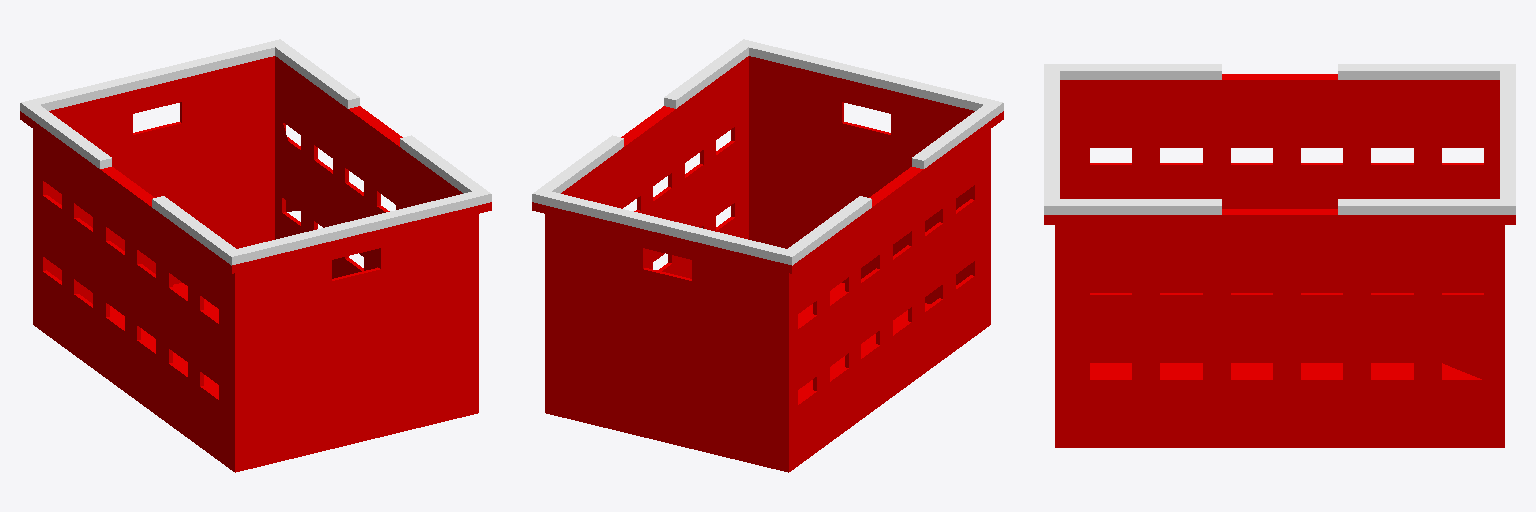
The robot description file, URDF, robot "basket-robot":
<?xml version="1.0"?>
<robot name="basket-robot"
       xmlns:xi="http://www.w3.org/2001/XInclude"
       xmlns:gazebo="http://playerstage.sourceforge.net/gazebo/xmlschema/#gz"
       xmlns:model="http://playerstage.sourceforge.net/gazebo/xmlschema/#model"
       xmlns:sensor="http://playerstage.sourceforge.net/gazebo/xmlschema/#sensor"
       xmlns:body="http://playerstage.sourceforge.net/gazebo/xmlschema/#body"
       xmlns:geom="http://playerstage.sourceforge.net/gazebo/xmlschema/#geom"
       xmlns:joint="http://playerstage.sourceforge.net/gazebo/xmlschema/#joint"
       xmlns:interface="http://playerstage.sourceforge.net/gazebo/xmlschema/#interface"
       xmlns:rendering="http://playerstage.sourceforge.net/gazebo/xmlschema/#rendering"
       xmlns:renderable="http://playerstage.sourceforge.net/gazebo/xmlschema/#renderable"
       xmlns:controller="http://playerstage.sourceforge.net/gazebo/xmlschema/#controller"
       xmlns:physics="http://playerstage.sourceforge.net/gazebo/xmlschema/#physics">
  <gazebo>
    <static>false</static>
  </gazebo>
  <link name="BOX_link">
    <visual>
      <origin xyz="0 0 0" rpy="0 -0 0"/>
      <geometry>
        <mesh filename="model://basket/meshes/BOX_link_mesh.dae" scale="1 1 1" />
      </geometry>
    </visual>
    <collision>
      <origin xyz="0 0 0" rpy="0 -0 0"/>
      <geometry>
        <mesh filename="model://basket/meshes/BOX_link_mesh.dae" scale="1 1 1" />
      </geometry>
    </collision>
    <inertial>
      <mass value="2" />
      <origin xyz="0 0 0" rpy="0 -0 0"/>
      <inertia ixx="1e-02" ixy="0" ixz="0" iyy="1e-02" iyz="0" izz="1e-02"/>
    </inertial>
  </link>
  <gazebo reference="BOX_link">
    <mu1>0.9</mu1>
    <mu2>0.9</mu2>
  </gazebo>
  <link name="RIGHT_link">
    <visual>
      <origin xyz="0 0.055 0.255" rpy="0 -0 0"/>
      <geometry>
        <mesh filename="model://basket/meshes/RIGHT_link_mesh.dae" scale="1 1 1" />
      </geometry>
    </visual>
    <collision>
      <origin xyz="0 0.055 0.255" rpy="0 -0 0"/>
      <geometry>
        <mesh filename="model://basket/meshes/RIGHT_link_mesh.dae" scale="1 1 1" />
      </geometry>
    </collision>
    <inertial>
      <mass value="0.1" />
      <origin xyz="0 0 0" rpy="0 -0 0"/>
      <inertia ixx="1e-03" ixy="0" ixz="0" iyy="1e-03" iyz="0" izz="1e-03"/>
    </inertial>
  </link>
  <gazebo reference="RIGHT_link">
    <mu1>0.9</mu1>
    <mu2>0.9</mu2>
  </gazebo>
  <link name="LEFT_link">
    <visual>
      <origin xyz="0 -0.055 0.255" rpy="0 -0 0"/>
      <geometry>
        <mesh filename="model://basket/meshes/LEFT_link_mesh.dae" scale="1 1 1" />
      </geometry>
    </visual>
    <collision>
      <origin xyz="0 -0.055 0.255" rpy="0 -0 0"/>
      <geometry>
        <mesh filename="model://basket/meshes/LEFT_link_mesh.dae" scale="1 1 1" />
      </geometry>
    </collision>
    <inertial>
      <mass value="0.1" />
      <origin xyz="0 0 0" rpy="0 -0 0"/>
      <inertia ixx="1e-03" ixy="0" ixz="0" iyy="1e-03" iyz="0" izz="1e-03"/>
    </inertial>
  </link>
  <gazebo reference="LEFT_link">
    <mu1>0.9</mu1>
    <mu2>0.9</mu2>
  </gazebo>
  <joint name="HANDLE-HINGE1" type="revolute">
    <parent link="BOX_link"/>
    <child  link="RIGHT_link"/>
    <origin xyz="0 0.055 0.255" rpy="0 -0 0 "/>
    <axis   xyz="1 0 0"/>
    <limit lower="0" upper="3.14159" effort="100" velocity="0.5" />
    <dynamics damping="0.2" friction="0" />
  </joint>
  <transmission type="pr2_mechanism_model/SimpleTransmission" name="HANDLE-HINGE1_trans" >
    <actuator name="HANDLE-HINGE1_motor" />
    <joint name="HANDLE-HINGE1" />
    <mechanicalReduction>1</mechanicalReduction>
  </transmission>
  <gazebo reference="HANDLE-HINGE1">
    <cfmDamping>0.4</cfmDamping>
  </gazebo>
  <joint name="HANDLE-HINGE2" type="revolute">
    <parent link="BOX_link"/>
    <child  link="LEFT_link"/>
    <origin xyz="0 -0.055 0.255" rpy="0 -0 0 "/>
    <axis   xyz="1 0 0"/>
    <limit lower="-3.14159" upper="0" effort="100" velocity="0.5" />
    <dynamics damping="0.2" friction="0" />
  </joint>
  <transmission type="pr2_mechanism_model/SimpleTransmission" name="HANDLE-HINGE2_trans" >
    <actuator name="HANDLE-HINGE2_motor" />
    <joint name="HANDLE-HINGE2" />
    <mechanicalReduction>1</mechanicalReduction>
  </transmission>
  <gazebo reference="HANDLE-HINGE2">
    <cfmDamping>0.4</cfmDamping>
  </gazebo>
</robot>

--- Facts derived from the render (not from the file) ---
The picture shows the robot from 3 angles, left to right: view 1: azimuth 30°, elevation 25°; view 2: azimuth 150°, elevation 25°; view 3: azimuth 270°, elevation 25°; orthographic projection.
Robot: basket-robot — 3 links, 2 joints (2 revolute); root link BOX_link; default pose: all joints at 0.
Visible links, largest first — view 1: BOX_link, RIGHT_link, LEFT_link; view 2: BOX_link, LEFT_link, RIGHT_link; view 3: BOX_link, RIGHT_link, LEFT_link.
Link boxes in pixels (box(x1,y1,x2,y2)): BOX_link: box(20, 56, 491, 472); RIGHT_link: box(20, 39, 359, 168); LEFT_link: box(152, 135, 491, 265); BOX_link: box(532, 56, 1003, 472); LEFT_link: box(664, 39, 1003, 168); RIGHT_link: box(532, 135, 871, 265); BOX_link: box(1044, 74, 1515, 447); RIGHT_link: box(1338, 64, 1515, 214); LEFT_link: box(1044, 64, 1221, 214).
Size in the robot's own frame: 0.32 by 0.45 by 0.26 metres.
Meshes: 3 distinct files referenced, 3 mesh visuals loaded (3 Collada DAE).